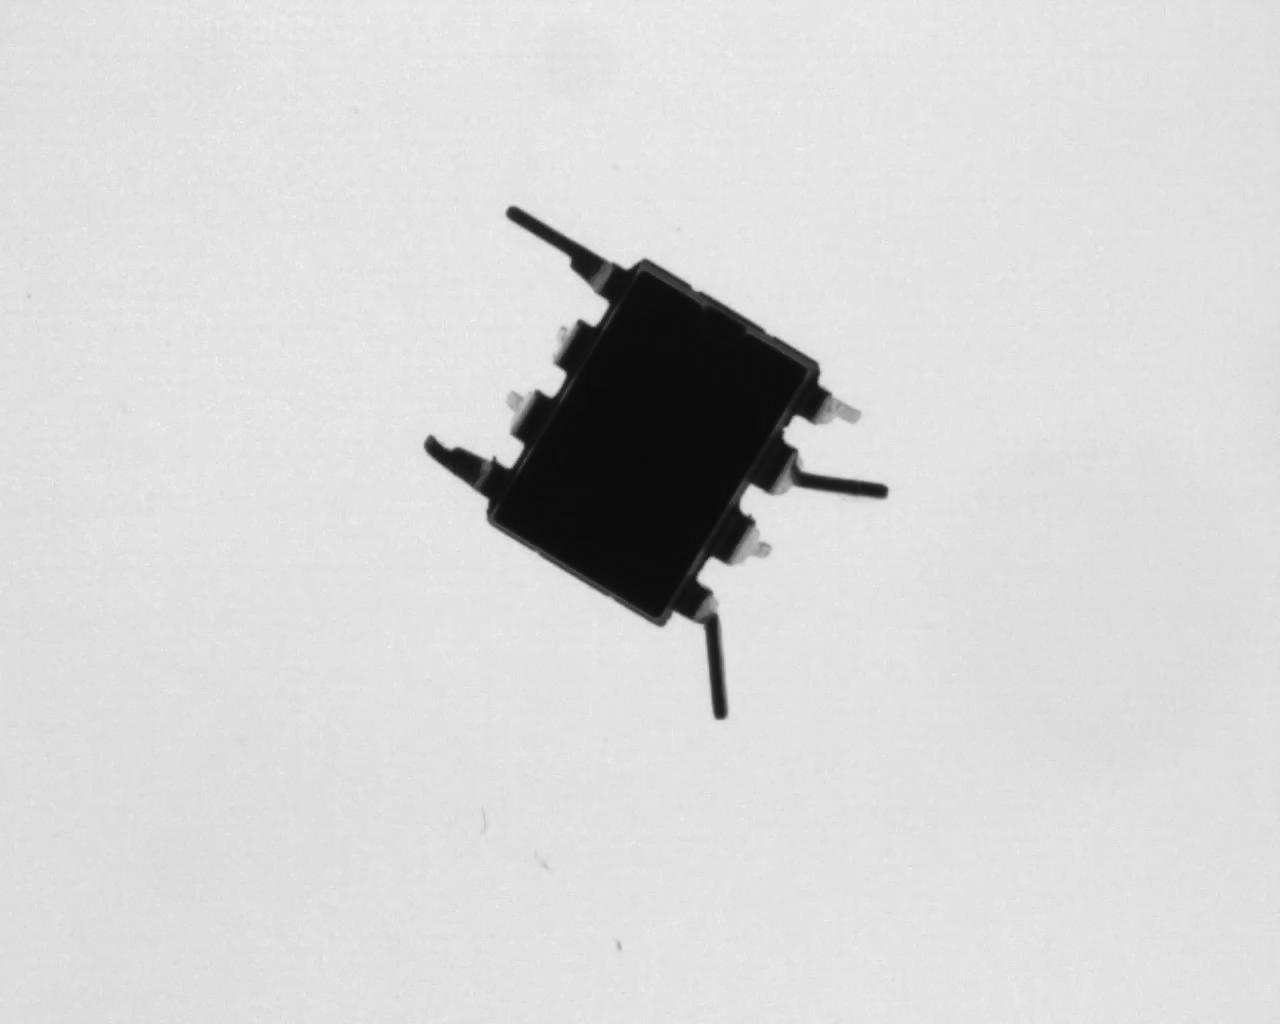Leg: (504, 205, 621, 298), (754, 433, 894, 502), (671, 578, 729, 720), (423, 433, 513, 501), (709, 508, 772, 566), (797, 377, 863, 425), (504, 387, 554, 443), (551, 317, 600, 373)
